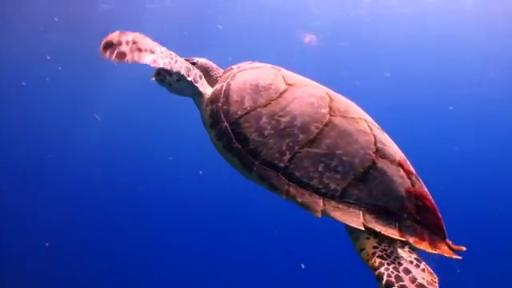Fish: (100, 32, 464, 287)
